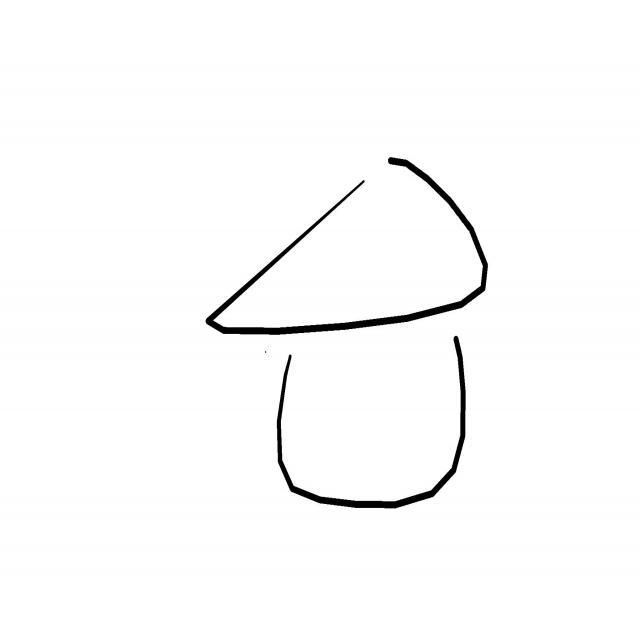house: (207, 158, 489, 509)
roof: (207, 157, 489, 335)
wall: (279, 343, 465, 508)
